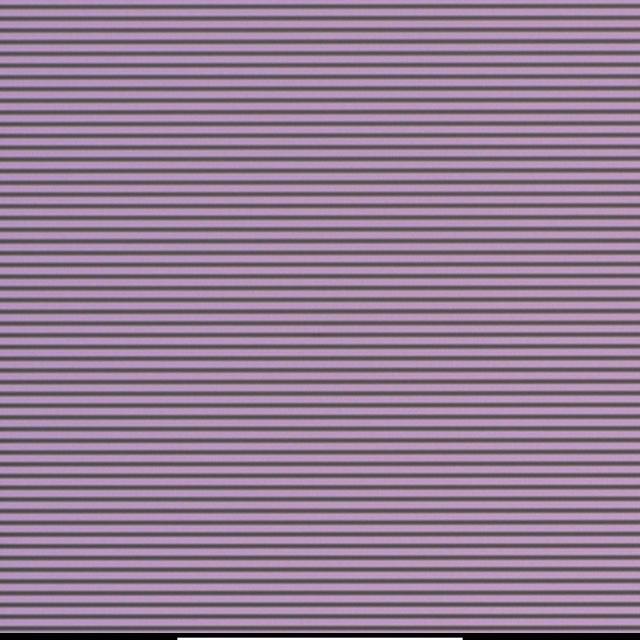03_intrusion: (312, 329, 318, 344)
